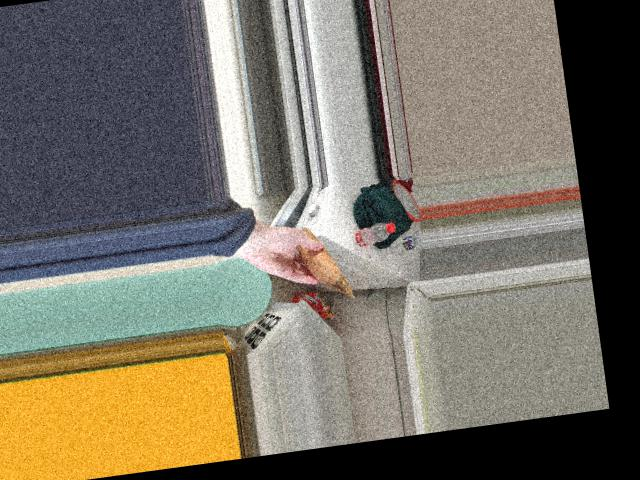sweet_potato: (292, 231, 339, 283)
